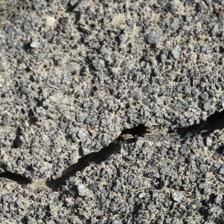Crack: (0, 64, 65, 158), (18, 130, 47, 213)
